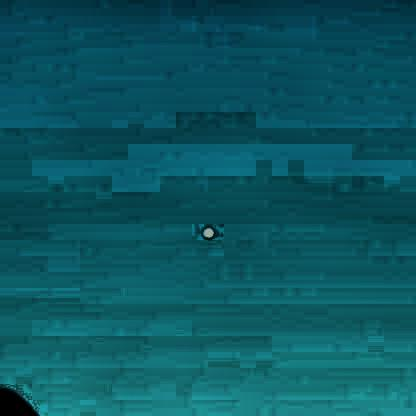golfball: (199, 222, 214, 237)
